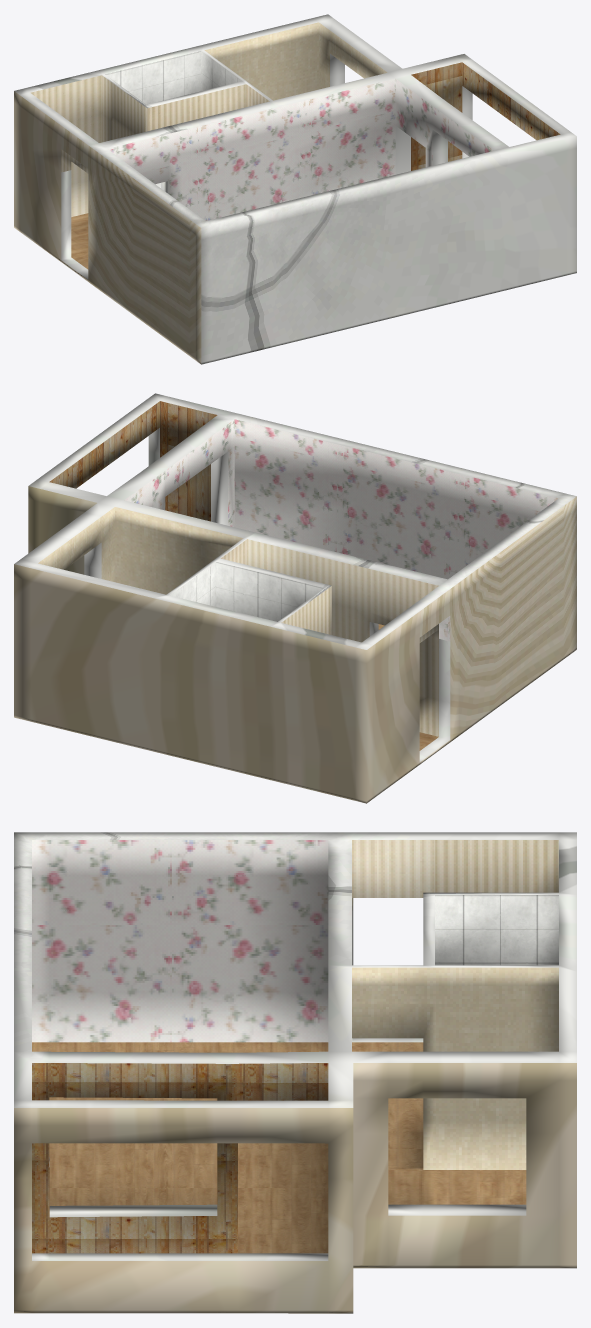
The model's file is комната123.fbx.
3 renders of one model, top to bottom at view 1: azimuth 30°, elevation 25°; view 2: azimuth 150°, elevation 25°; view 3: azimuth 270°, elevation 25°, orthographic. The views are drawn at different scales.
Parts seen in each view (by area): view 1: Plane.001, Plane.016, Plane.013, Plane.017, Plane.032, Plane.012, Plane.020, Plane.029, Plane.026, Plane.014, Plane.023, Plane.035 (+4 smaller); view 2: Plane.017, Plane.001, Plane.016, Plane.013, Plane.032, Plane.035, Plane.029, Plane.015, Plane.014, Plane.012, Plane.023, Plane.030 (+6 smaller); view 3: Plane.016, Plane.012, Plane.019, Plane.033, Plane.032, Plane.020, Plane.024, Plane.001, Plane.028, Plane.029, Plane.025, Plane.017 (+10 smaller).
Part boxes in pixels (<box>): Plane.001: <box>206,132,576,359</box>; Plane.016: <box>14,88,211,362</box>; Plane.013: <box>161,56,462,220</box>; Plane.017: <box>24,14,333,216</box>; Plane.032: <box>462,60,570,140</box>; Plane.012: <box>14,213,576,364</box>; Plane.020: <box>102,74,145,142</box>; Plane.029: <box>432,102,503,156</box>; Plane.026: <box>395,75,440,147</box>; Plane.014: <box>121,128,168,184</box>; Plane.023: <box>330,26,390,78</box>; Plane.035: <box>187,80,248,120</box>; Plane.017: <box>14,559,361,798</box>; Plane.001: <box>148,393,564,579</box>; Plane.016: <box>355,493,576,800</box>; Plane.013: <box>40,482,378,642</box>; Plane.032: <box>38,398,159,488</box>; Plane.035: <box>213,557,281,621</box>; Plane.029: <box>148,420,228,496</box>; Plane.015: <box>415,573,447,736</box>; Plane.014: <box>369,562,423,625</box>; Plane.012: <box>14,624,576,803</box>; Plane.023: <box>33,512,101,569</box>; Plane.030: <box>211,415,234,527</box>; Plane.016: <box>14,832,576,1042</box>; Plane.012: <box>14,1038,576,1313</box>; Plane.019: <box>435,965,558,1169</box>; Plane.033: <box>32,1253,328,1310</box>; Plane.032: <box>32,1100,328,1143</box>; Plane.020: <box>435,892,558,965</box>; Plane.024: <box>388,1204,526,1264</box>; Plane.001: <box>14,840,31,1309</box>; Plane.028: <box>49,1204,217,1253</box>; Plane.029: <box>49,1051,217,1098</box>; Plane.025: <box>352,1051,388,1264</box>; Plane.017: <box>559,840,576,1264</box>.
Bounding box in the file's own units: 856 × 298 × 739.
6 materials, 6 textured.
